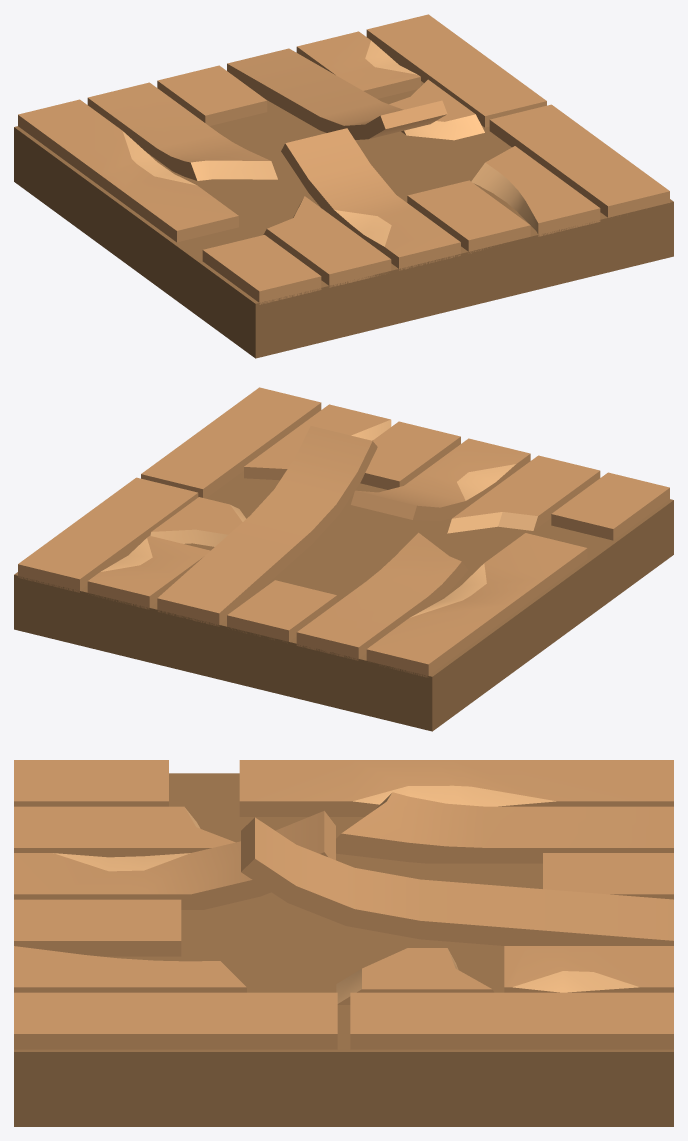
File: Floor_Wood_Broken.fbx
3 renders of one model, top to bottom at view 1: azimuth 30°, elevation 25°; view 2: azimuth 150°, elevation 25°; view 3: azimuth 270°, elevation 25°, orthographic. The views are drawn at different scales.
Parts seen in each view (by area): view 1: Floor_Wood_Broken; view 2: Floor_Wood_Broken; view 3: Floor_Wood_Broken.
Boxes of the visible parts, x1,y1,x2,y2 form: Floor_Wood_Broken: (14,14,673,358); Floor_Wood_Broken: (14,387,673,731); Floor_Wood_Broken: (14,760,673,1126).
Size of the model in its own units: 400 by 116 by 400.
